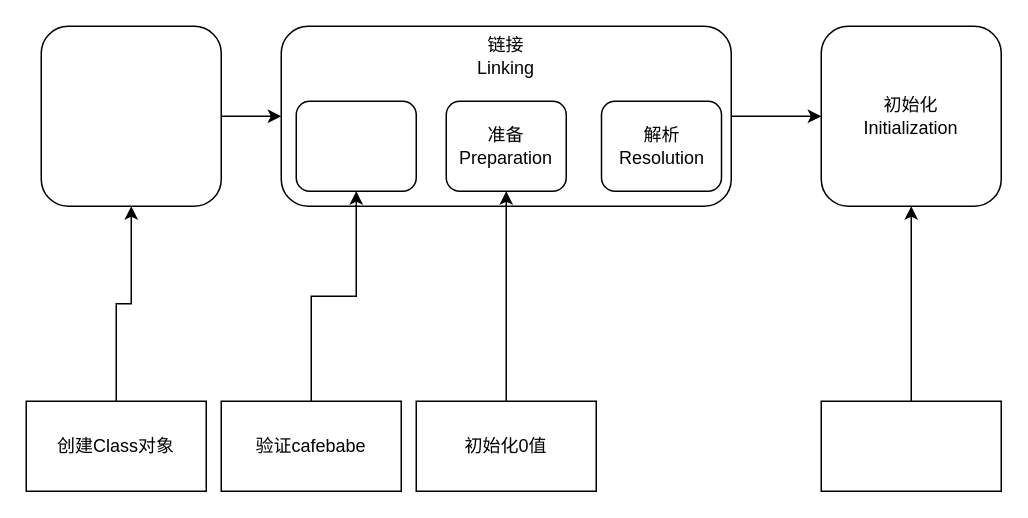
This 1028x518 diagram has some shape labels left out. The shapes that lost their labels are listed below. From the top down, each one's centre as x and y in pixels, then its label:
(x=130, y=115): 加载 Loading
(x=355, y=145): 验证 Verification
(x=910, y=445): clinit（静态变量赋值，静态代码块） init（构造方法）
